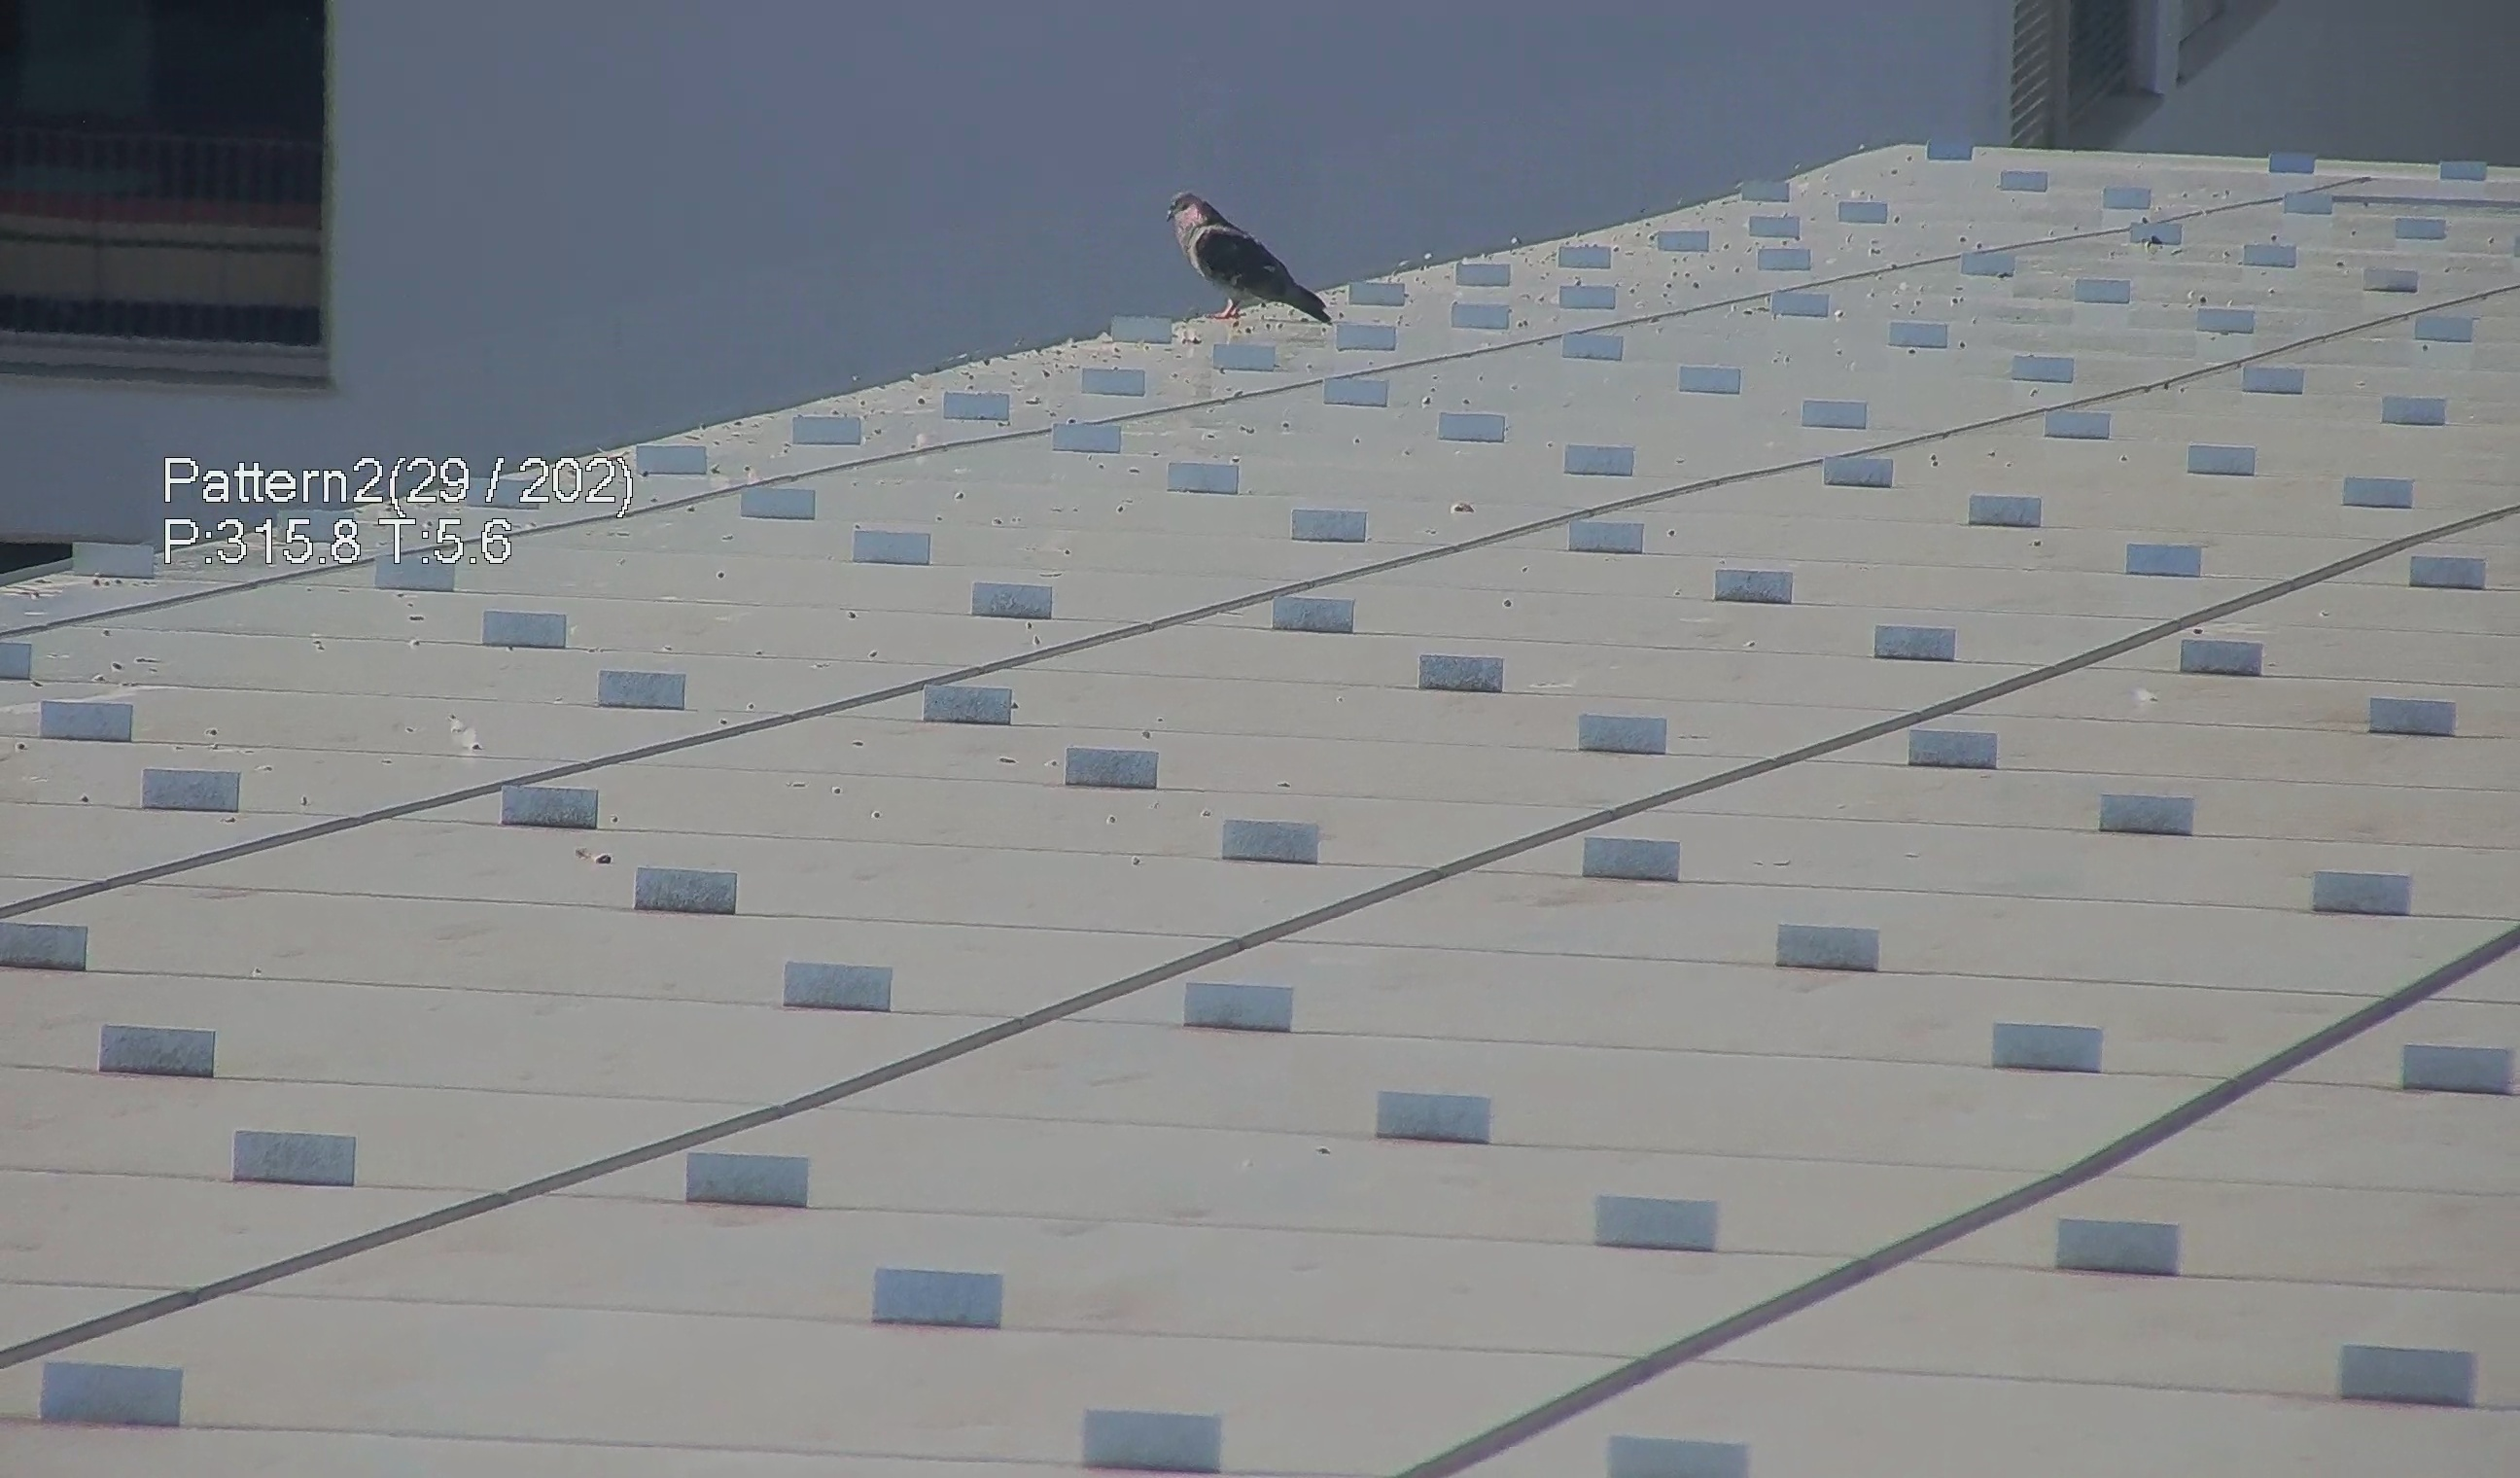Pigeon: (1157, 179, 1335, 334)
